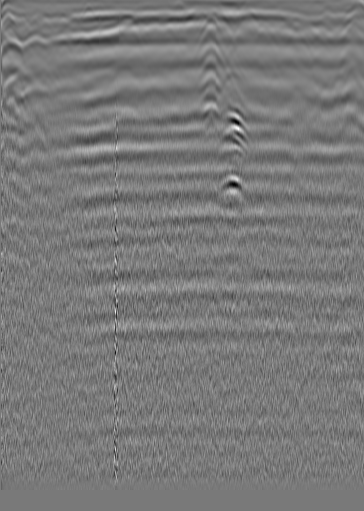가스: (217, 171, 247, 200)
상수: (308, 21, 328, 41)
오수: (21, 31, 51, 57)
우수: (161, 20, 181, 40)
